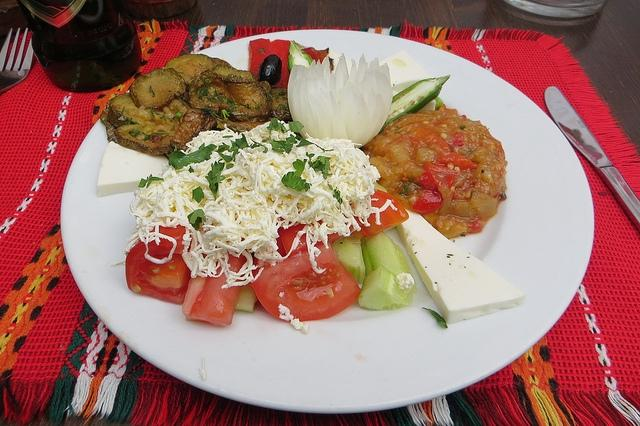onion: (287, 53, 393, 149)
tomato: (280, 189, 410, 257), (250, 243, 362, 320), (125, 224, 192, 304), (182, 252, 247, 327), (248, 38, 290, 88), (436, 154, 478, 171)
